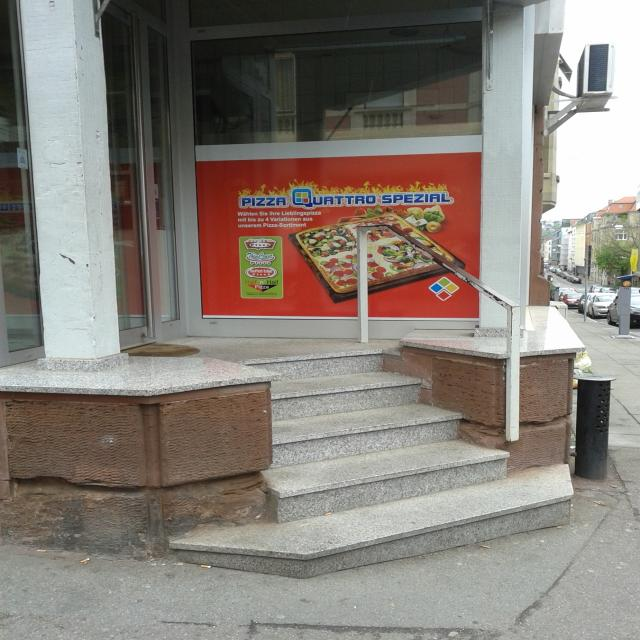AVOID: (224, 350, 572, 578)
